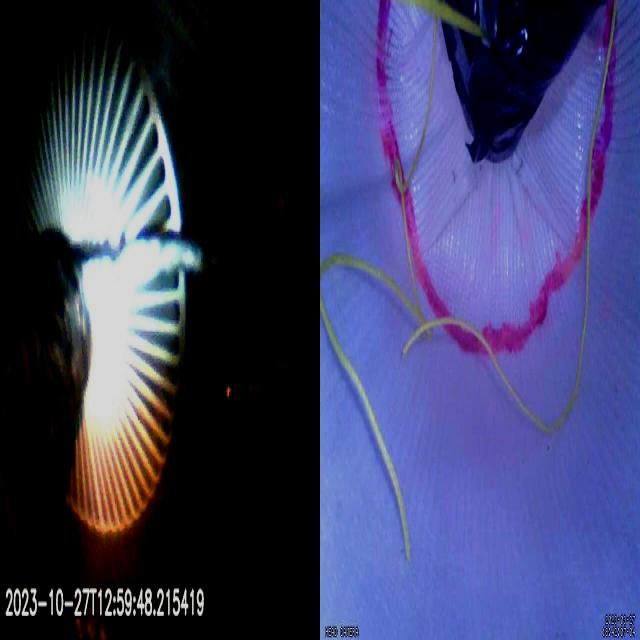red-circle: (375, 0, 616, 352)
